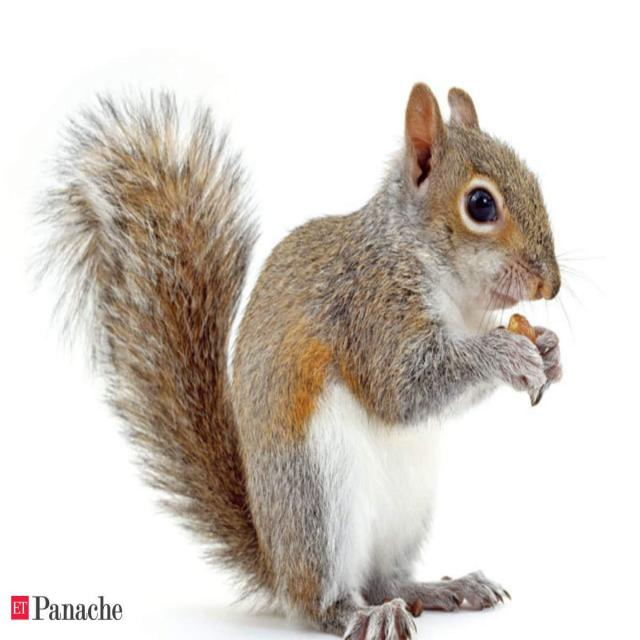Squirrel: (71, 74, 562, 633)
